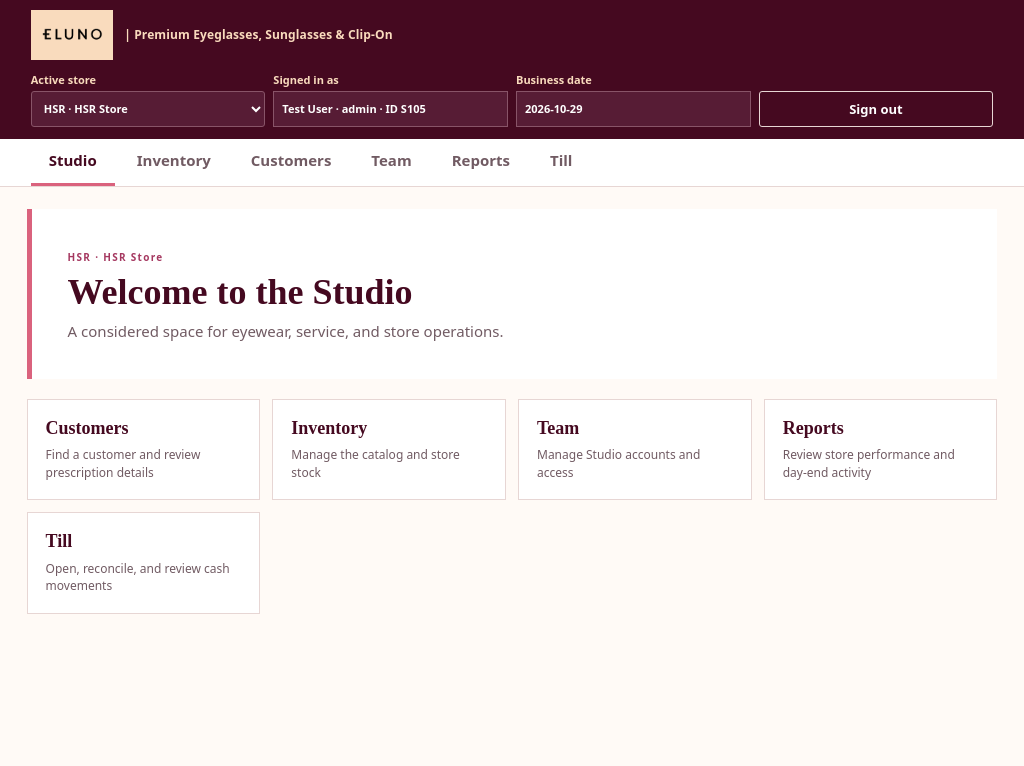
Test: browser POS workflows › loads the all-store Overall operations report
Step 1. Click the button "Reports" → click(481, 162), box [434,139,528,186]
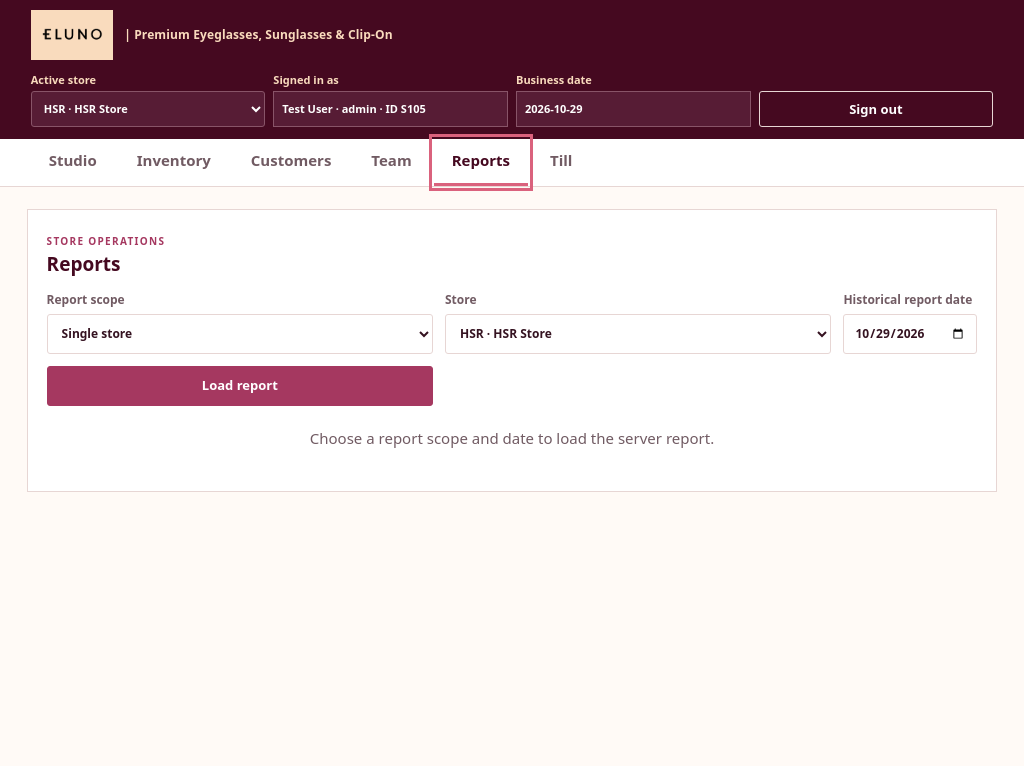
Step 2. Select "Overall operations · all stores" in the dropdown labelled "Report scope" → (240, 334), box [47,314,433,354]
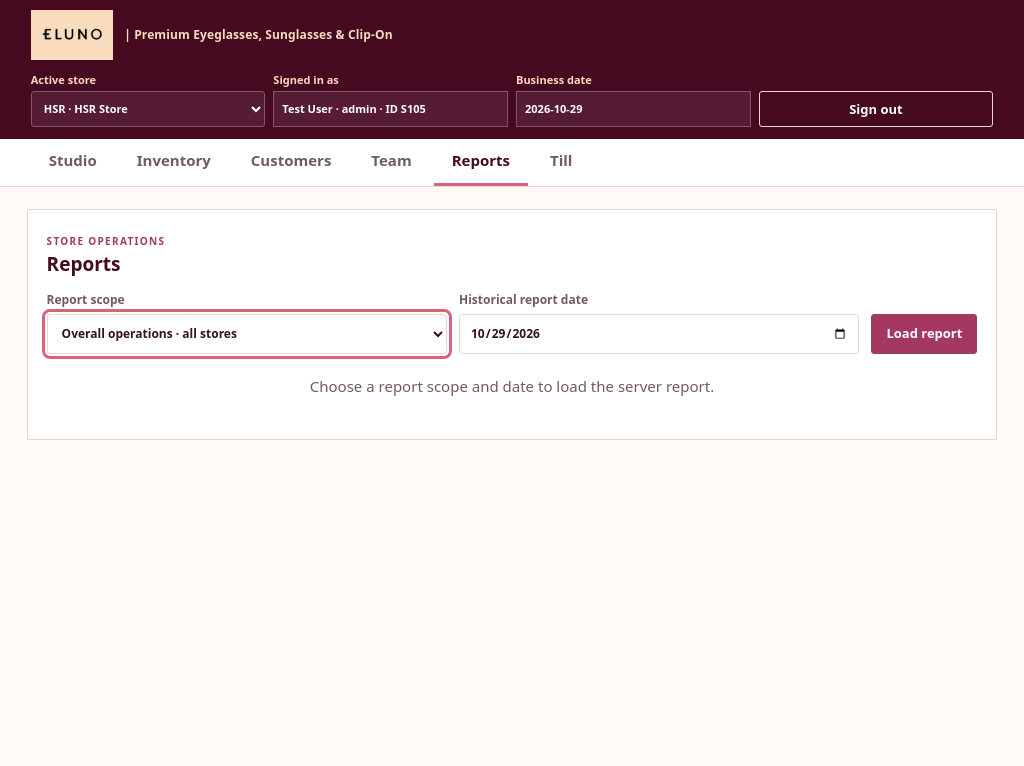
Step 3. Click the button "Load report" → click(924, 334), box [871,314,977,354]
(page scrolled)
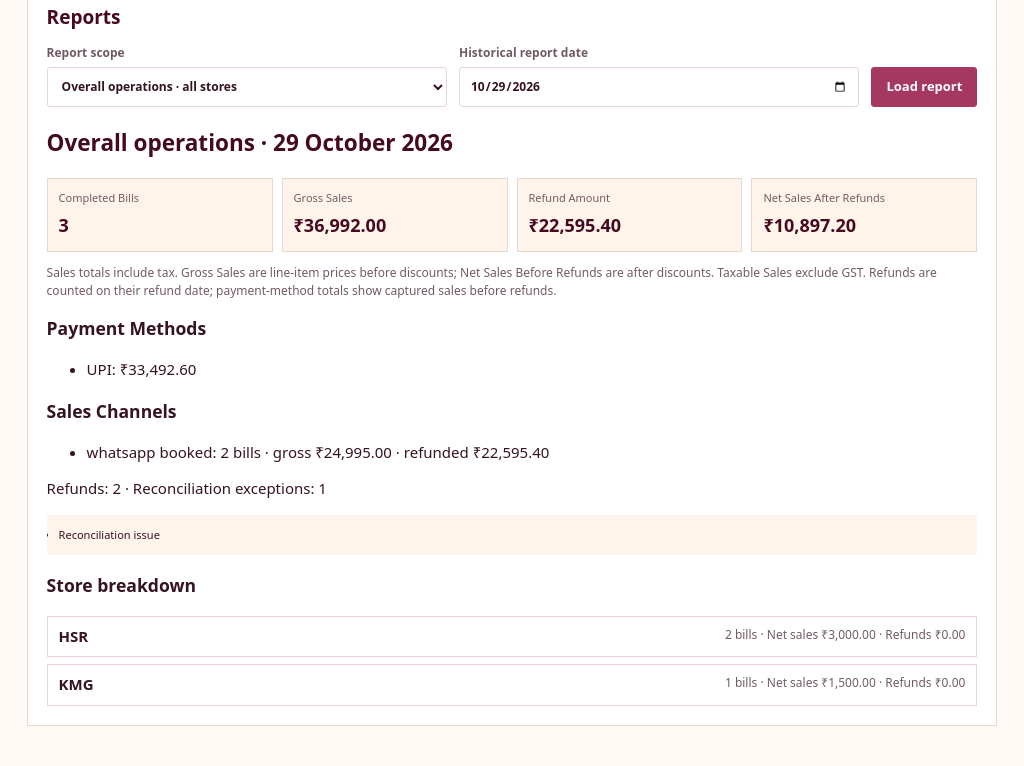
Result: the heading "Overall operations · 29 October 2026" is shown at [47,127,453,158]
Result: the text "Completed Bills" is shown at [59,190,139,205]
Result: the text "3" is shown at [59,213,69,237]
